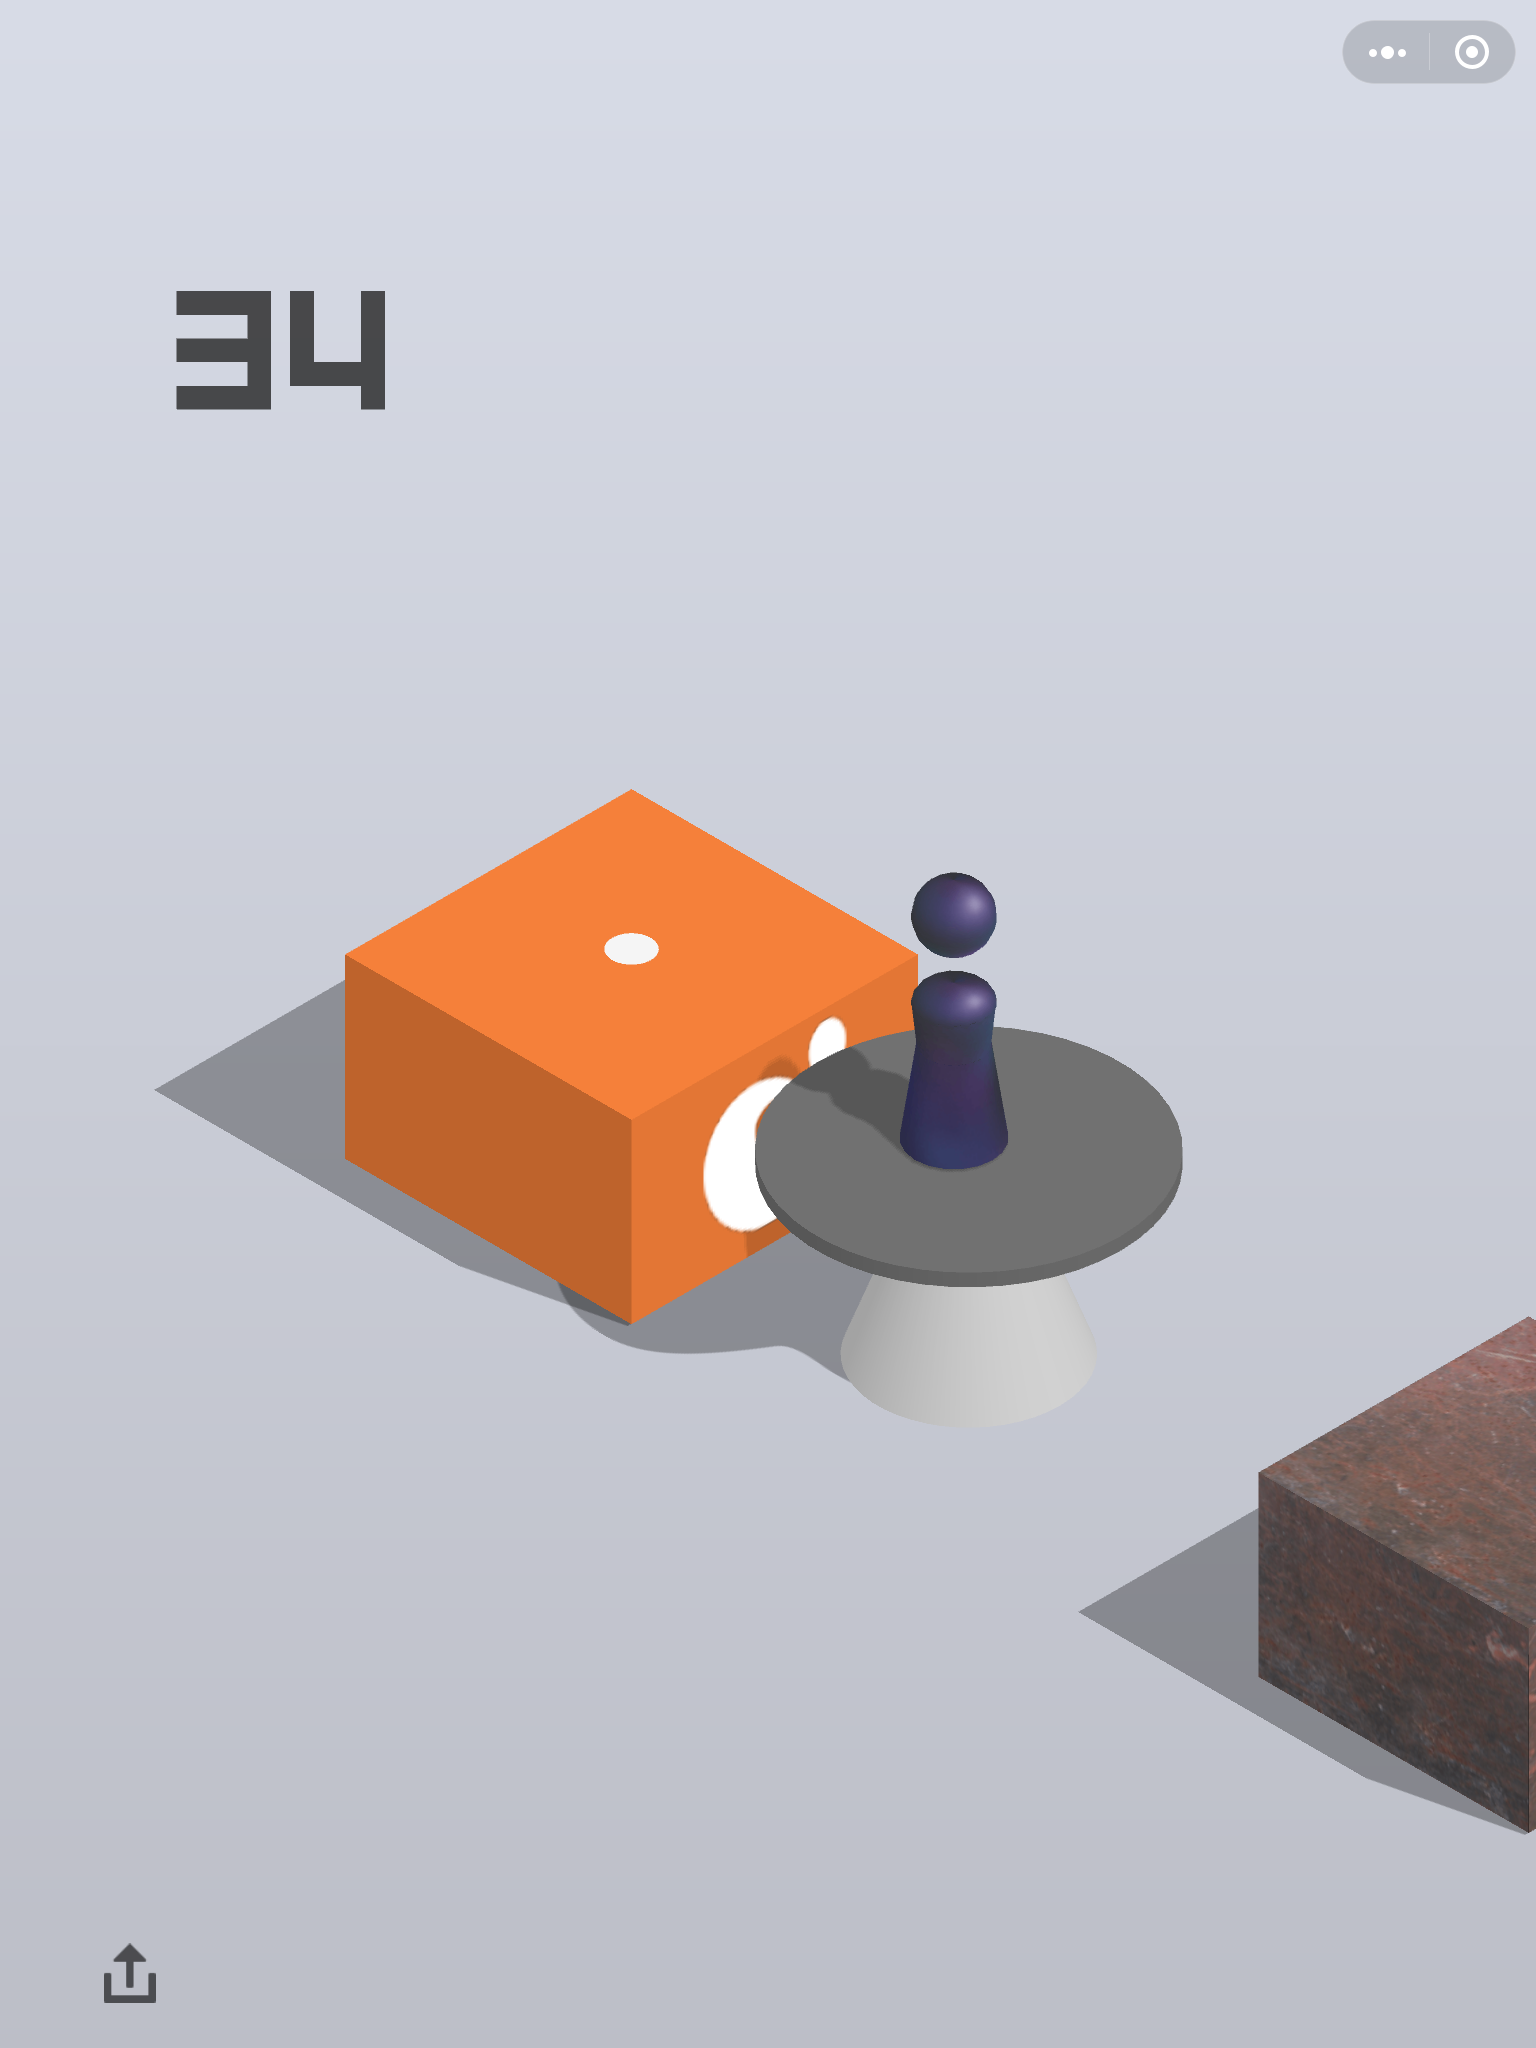c: (753, 1022, 1191, 1434)
f: (336, 785, 925, 1335), (1255, 1311, 1536, 1838)
r: (895, 866, 1016, 1176)
